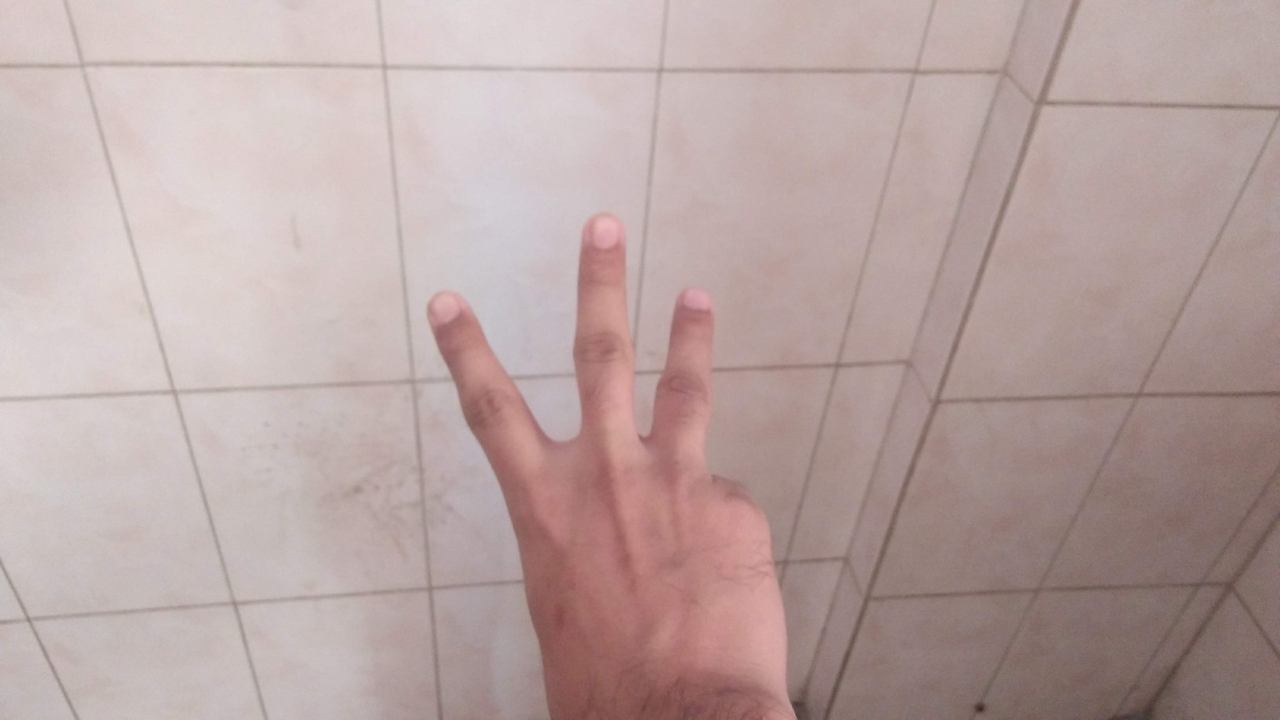fingertip: (416, 284, 478, 340), (572, 204, 632, 260), (668, 276, 720, 328)
